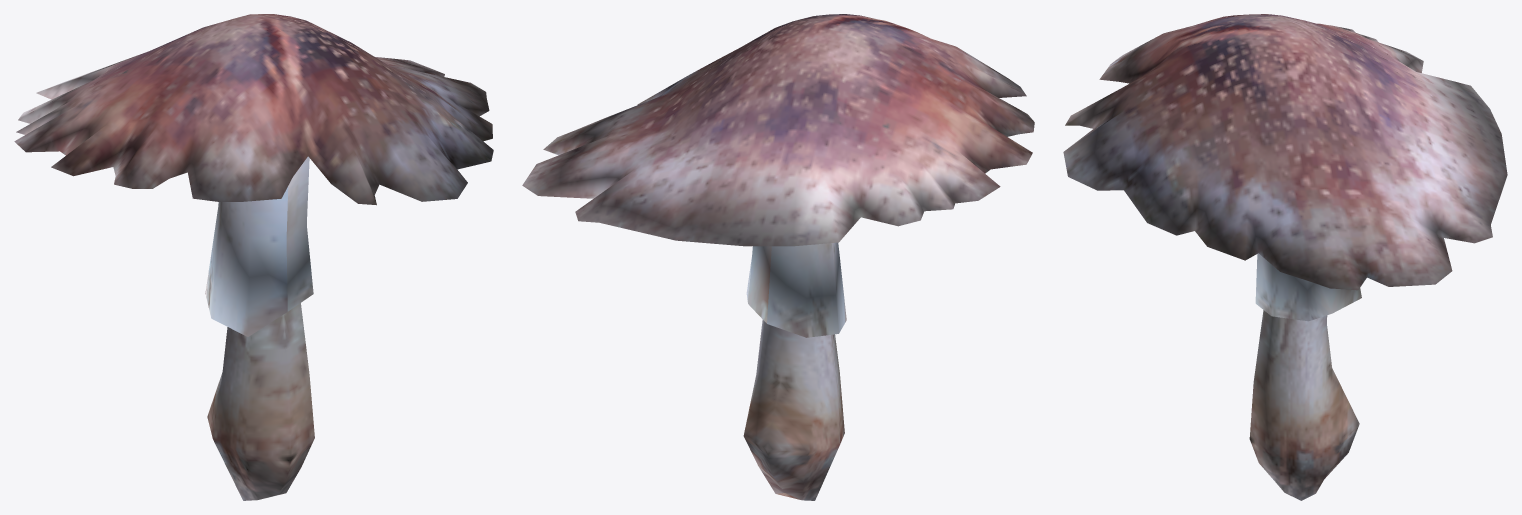
File: SM_TOADSTOOL_14.FBX
The picture shows the model from 3 angles, left to right: view 1: azimuth 30°, elevation 25°; view 2: azimuth 150°, elevation 25°; view 3: azimuth 270°, elevation 25°; orthographic projection. The views are drawn at different scales.
Parts seen in each view (by area): view 1: SM_TOADSTOOL_14; view 2: SM_TOADSTOOL_14; view 3: SM_TOADSTOOL_14.
Part boxes in pixels (x1,y1,x2,y2): SM_TOADSTOOL_14: [14, 14, 493, 500]; SM_TOADSTOOL_14: [522, 14, 1034, 500]; SM_TOADSTOOL_14: [1063, 14, 1507, 500].
Size of the model in its own units: 20.09 by 17.77 by 20.17.
